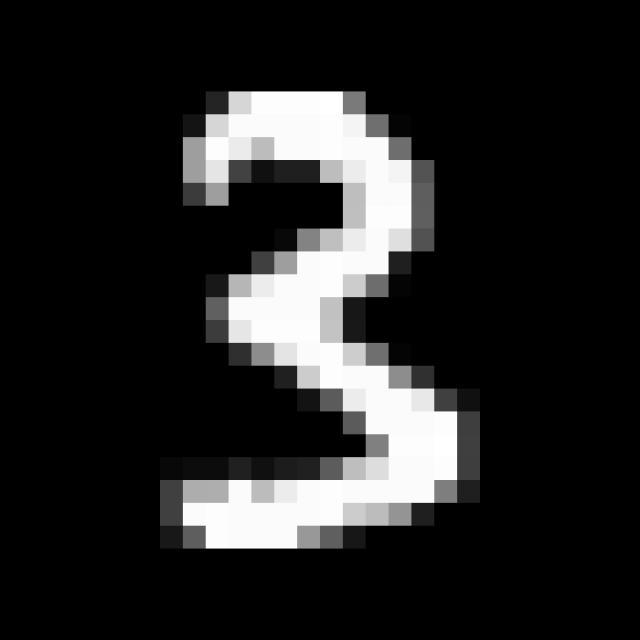three -3-: (167, 82, 487, 570)
